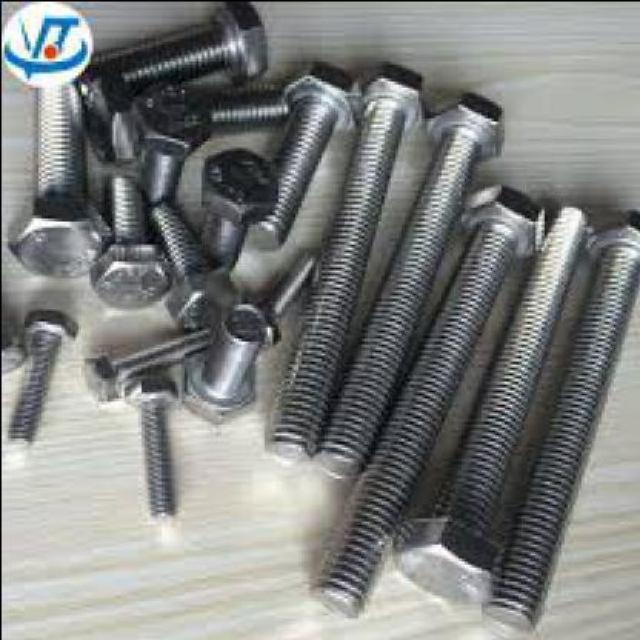METAL: (303, 180, 543, 620), (392, 201, 586, 628), (317, 88, 503, 474), (260, 54, 429, 454), (480, 206, 637, 623), (0, 51, 109, 272), (74, 65, 289, 158), (263, 55, 343, 242), (82, 2, 263, 80), (126, 71, 206, 206), (146, 194, 232, 317), (91, 160, 166, 300), (180, 297, 257, 426), (198, 142, 272, 275), (123, 366, 183, 517), (8, 303, 72, 443), (83, 326, 203, 400), (252, 238, 314, 342)
